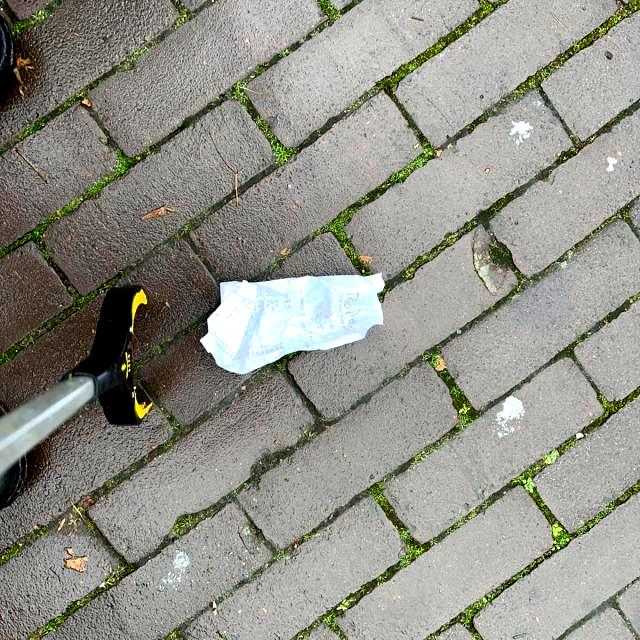Paper: (197, 268, 387, 377)
